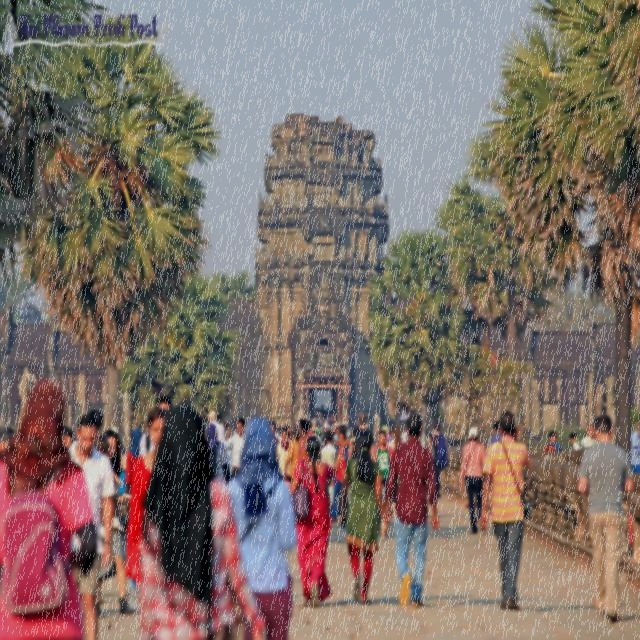pessoa: (136, 404, 270, 639), (0, 380, 98, 639), (226, 417, 299, 639), (574, 412, 636, 623), (379, 412, 442, 612), (476, 406, 533, 614), (68, 410, 118, 640), (288, 434, 352, 608), (338, 430, 389, 607), (122, 406, 168, 592), (96, 428, 138, 616), (457, 422, 487, 536), (117, 410, 141, 536), (52, 406, 109, 459), (134, 392, 174, 458), (339, 426, 362, 532), (329, 430, 350, 524), (204, 422, 233, 486), (374, 428, 394, 520), (430, 420, 450, 499), (306, 404, 352, 438), (317, 428, 337, 506), (348, 410, 378, 460), (223, 417, 248, 475), (276, 427, 294, 482), (294, 418, 312, 459), (378, 421, 410, 444), (205, 408, 225, 444), (628, 418, 640, 476), (579, 422, 600, 450), (540, 428, 562, 454), (386, 424, 404, 452), (485, 420, 503, 444), (417, 424, 432, 450), (568, 431, 584, 452), (268, 420, 280, 445), (286, 426, 298, 442), (278, 420, 296, 430)
